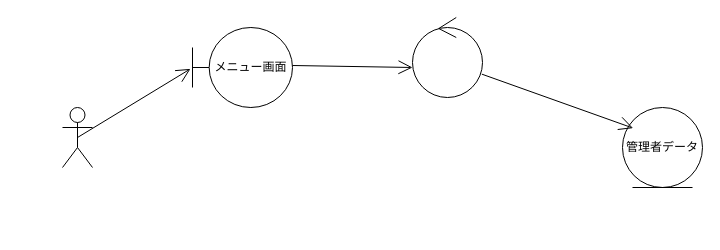
Some shapes in this 720 by 250 pixel diagram are drawn without their labels. Each missing label, with the box of its shape:
IDとパスワードを入力: (412, 16, 482, 98)
倉庫業者 アカウント管理者 カスタマーサポーター: (62, 106, 92, 168)
